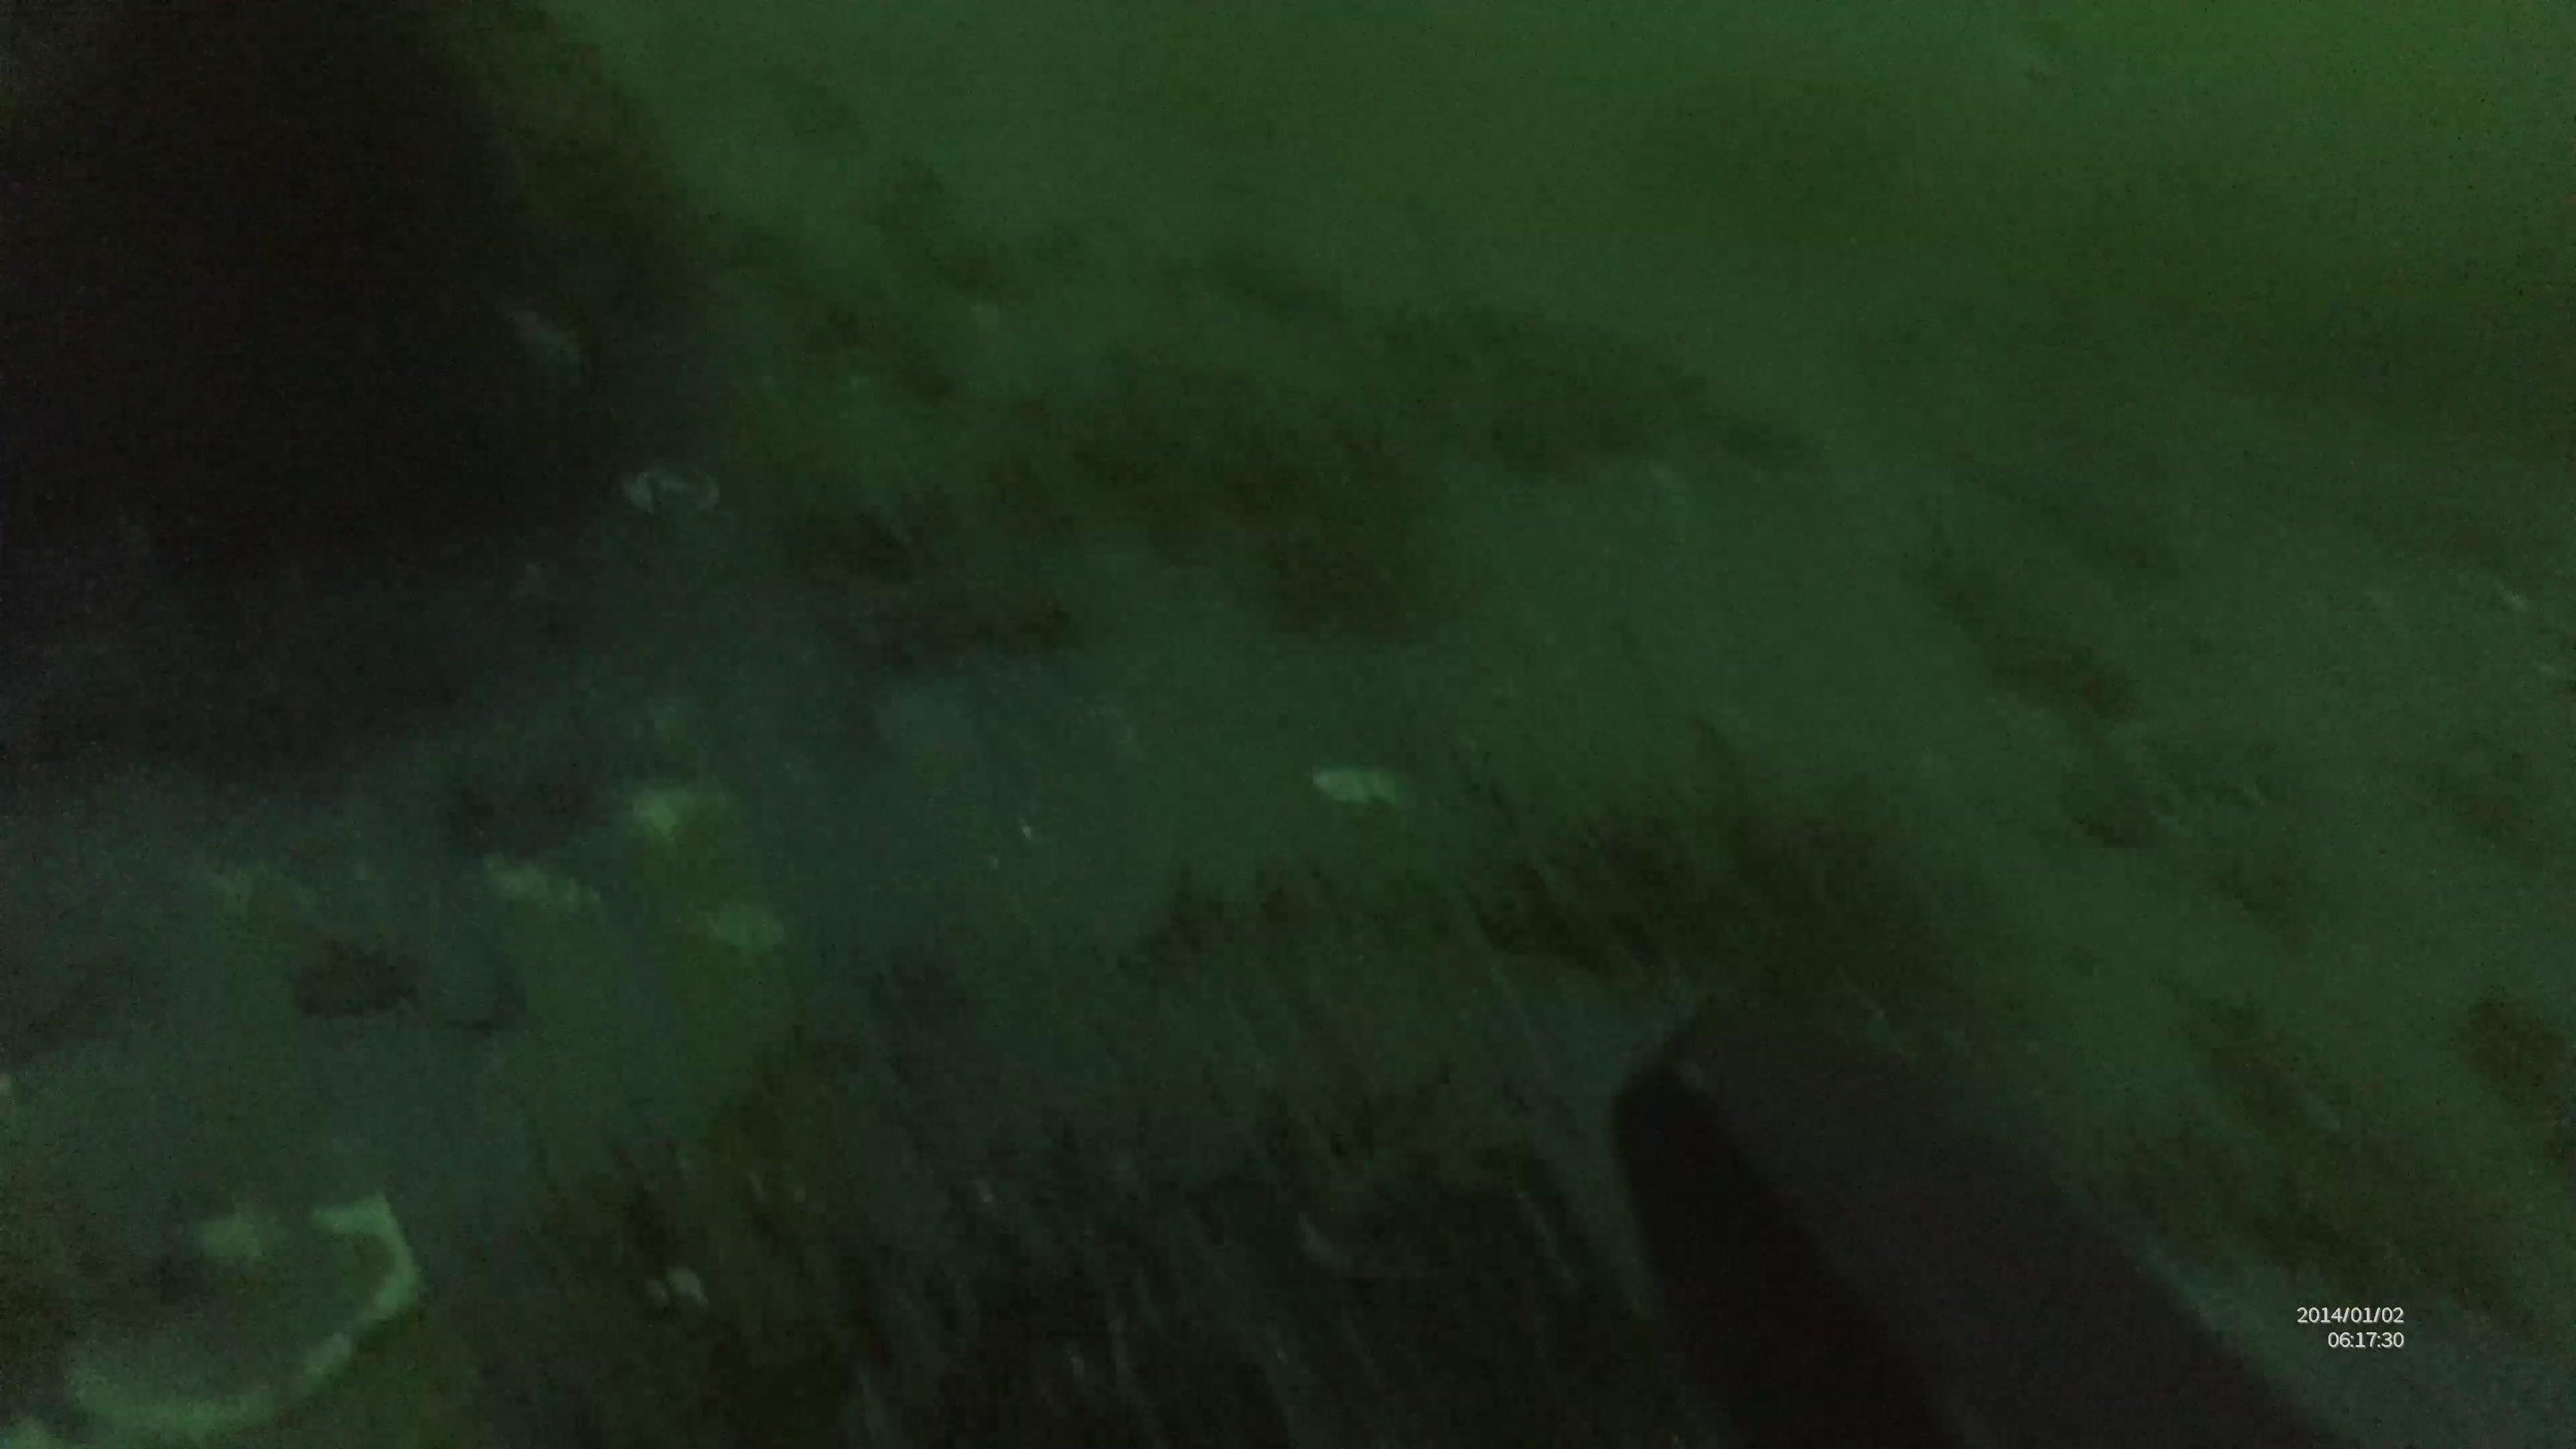scallop: (69, 1198, 437, 1440)
